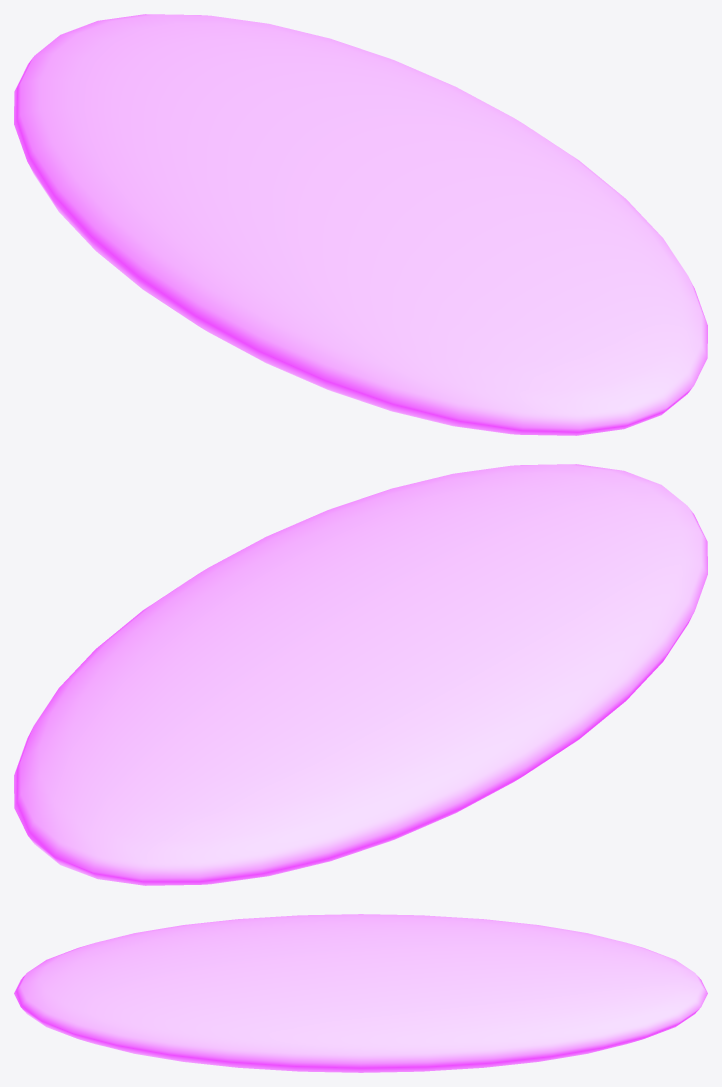
File: Gunkey.fbx
3 views of the same model, one above another, from view 1: azimuth 30°, elevation 25°; view 2: azimuth 150°, elevation 25°; view 3: azimuth 270°, elevation 25° (orthographic). The views are drawn at different scales.
Parts seen in each view (by area): view 1: Sphere; view 2: Sphere; view 3: Sphere.
Boxes of the visible parts, x1,y1,x2,y2 form: Sphere: (14, 14, 707, 435); Sphere: (14, 464, 707, 885); Sphere: (14, 914, 707, 1072).
Size of the model in its own units: 203 by 51.18 by 424.
